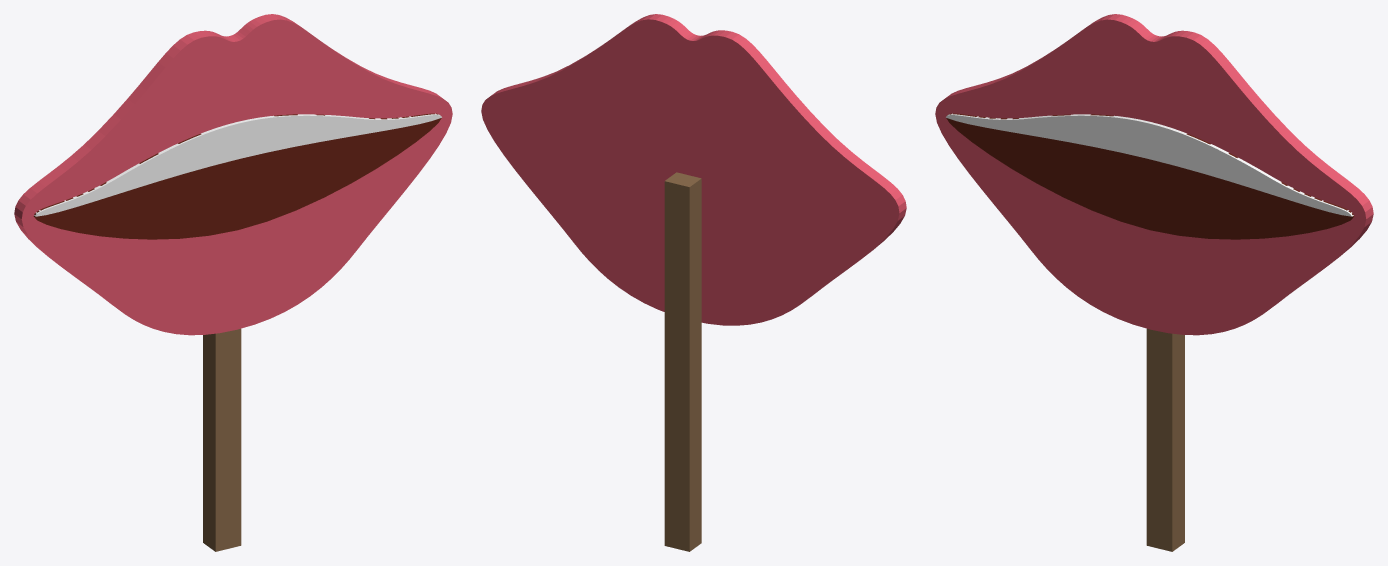
The model's file is bouche.glb.
3 renders of one model, left to right at view 1: azimuth 30°, elevation 25°; view 2: azimuth 150°, elevation 25°; view 3: azimuth 330°, elevation 25°, orthographic. The views are drawn at different scales.
Size of the model in its own units: 1 by 1.17 by 0.093.
